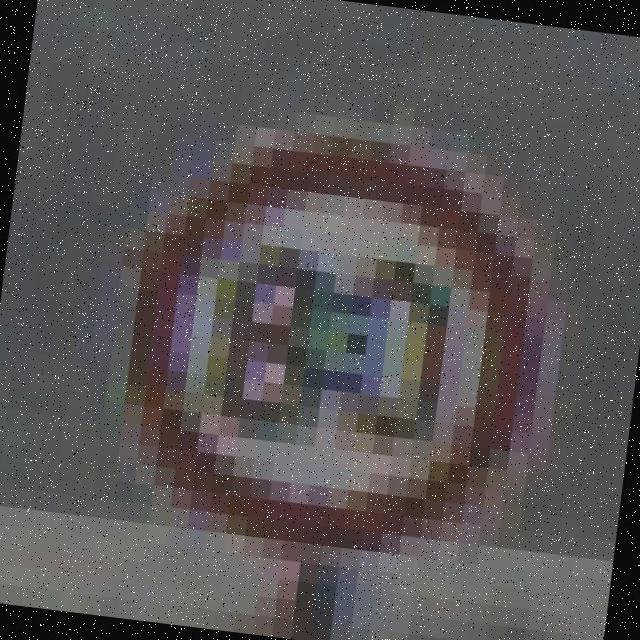Ograniczenie predkosci do 80: (96, 112, 568, 579)
